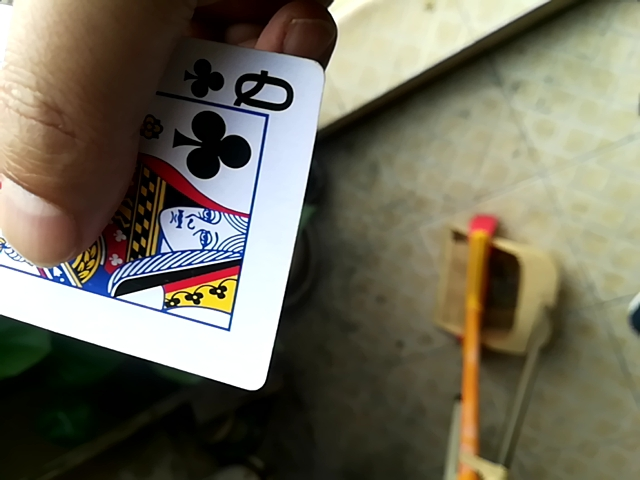mh q: (7, 37, 327, 400)
